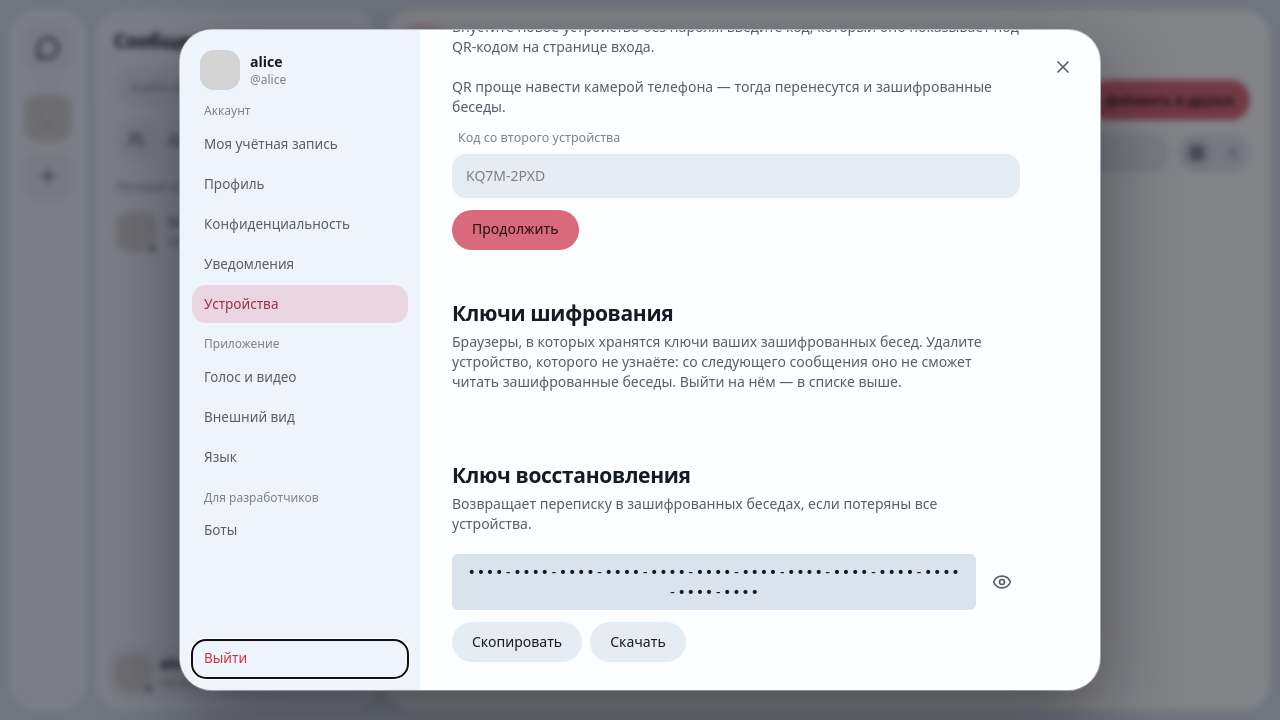
the recovery key › is masked in settings until the eye shows it, and hides again
(page scrolled)
Check: the text "ABCD-EFGH-JKMN-PQRS-TVWX-YZ01-2345-6789-ABCD-EFGH-JKMN-PQRS-TVWX" is not shown
Click the button named "Показать ключ".
click(1002, 582)  # box top-left (984, 564), bottom-right (1020, 600)
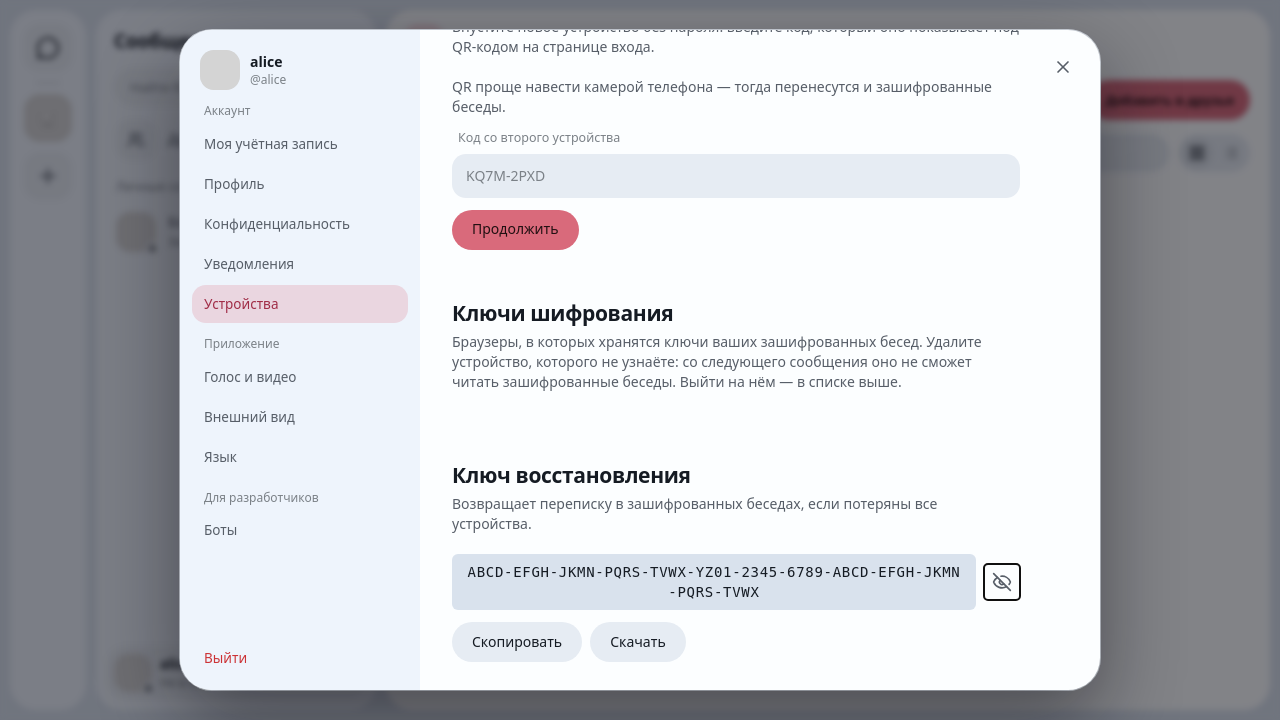
Check: the text "ABCD-EFGH-JKMN-PQRS-TVWX-YZ01-2345-6789-ABCD-EFGH-JKMN-PQRS-TVWX" is shown, box top-left (452, 554), bottom-right (976, 610)
Click the button named "Скрыть ключ".
click(1002, 582)  # box top-left (984, 564), bottom-right (1020, 600)
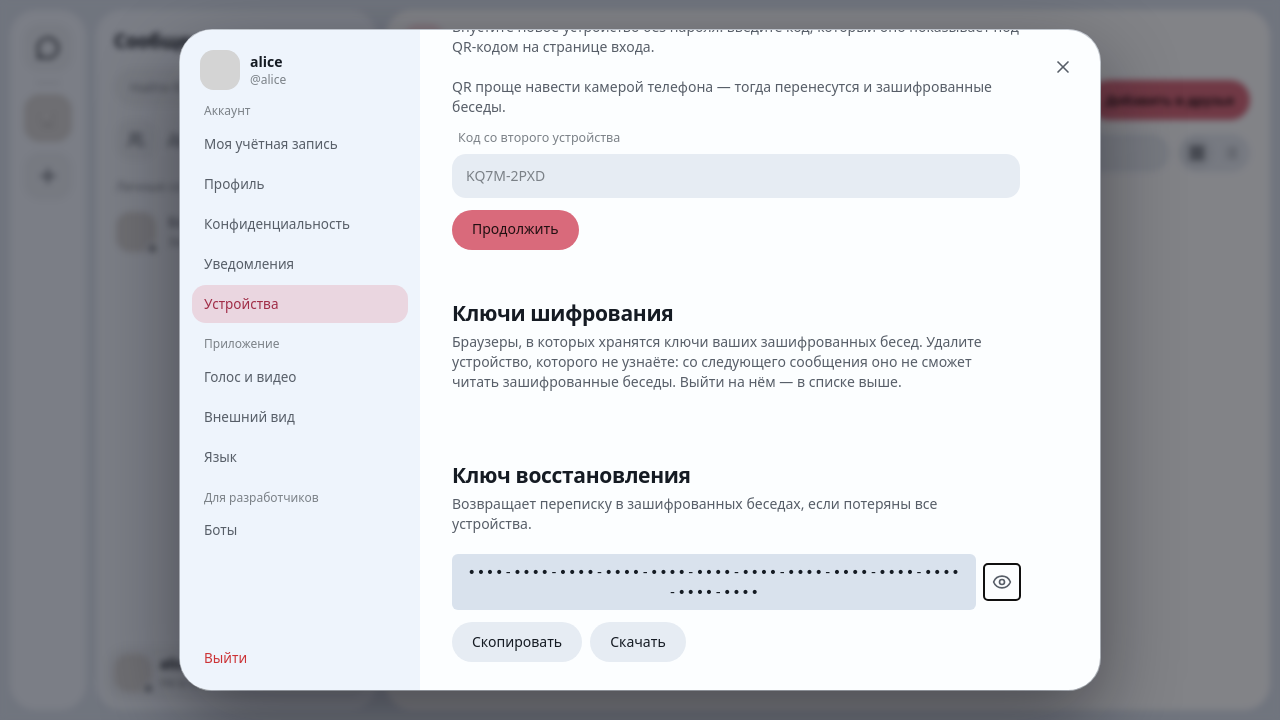
Check: the button "Скопировать" is shown, box top-left (452, 622), bottom-right (582, 662)
Check: the text "ABCD-EFGH-JKMN-PQRS-TVWX-YZ01-2345-6789-ABCD-EFGH-JKMN-PQRS-TVWX" is gone
